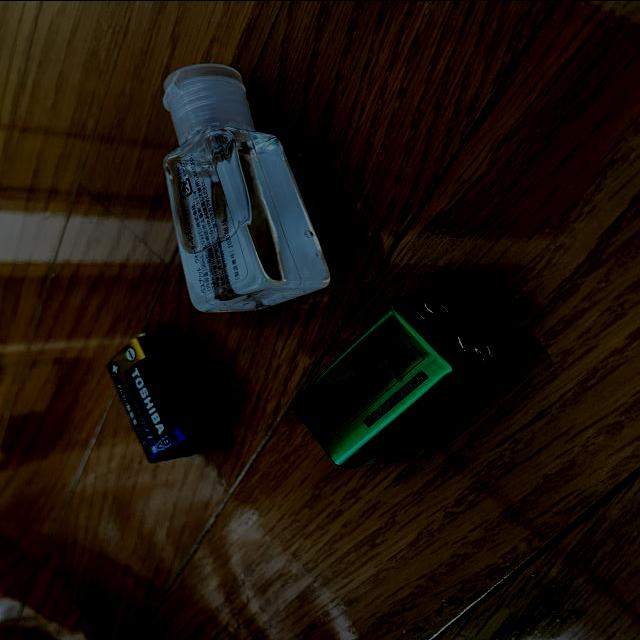9V: (293, 297, 508, 468), (107, 331, 231, 463)
